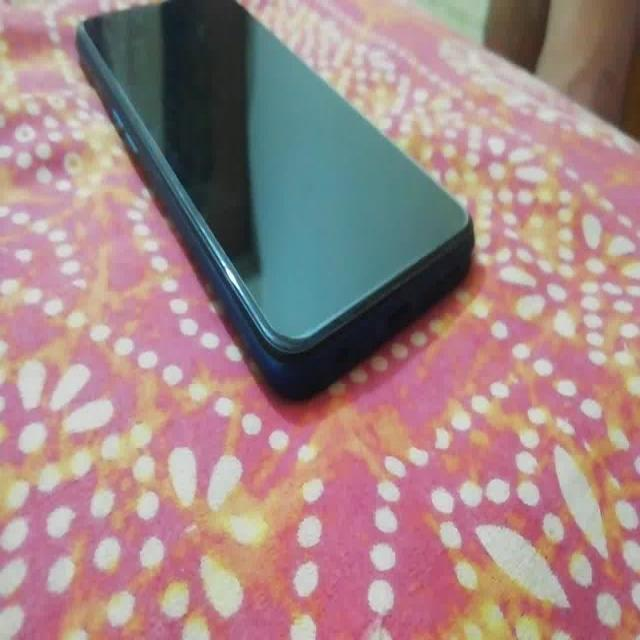Phone: (65, 5, 482, 410)
